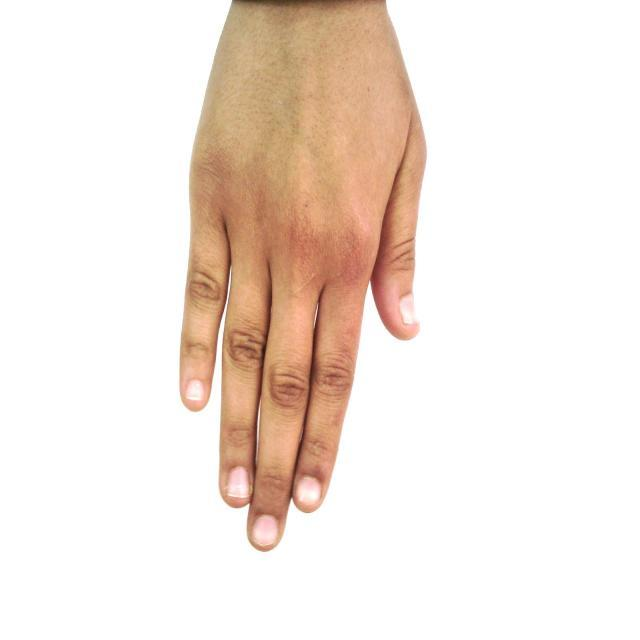Fingernail: (253, 516, 278, 545), (227, 468, 250, 498), (297, 477, 320, 506), (400, 294, 418, 326), (186, 381, 204, 399)
